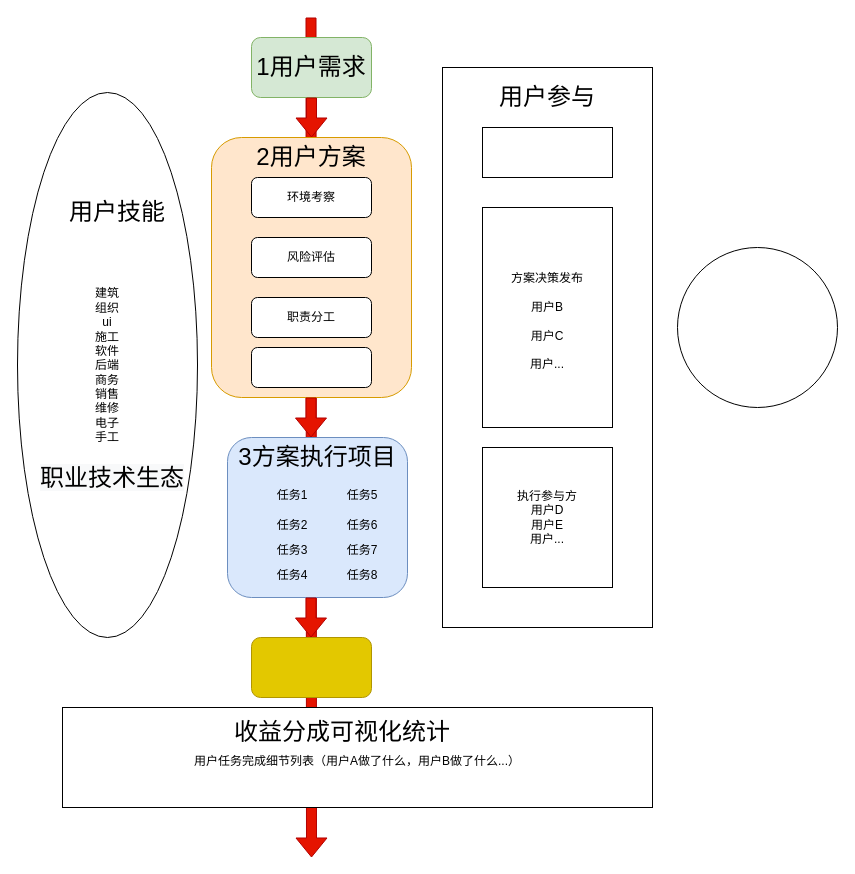
The diagram is 855 pixels wide and 874 high, and some of its shapes have lost their labels. The shapes that lost their labels are listed below. From the top down, each one's centre as x and y in pixels, then its label:
At (x=547, y=152): "用户A".
At (x=757, y=327): "用户资源".
At (x=311, y=367): "其他方案明细...".
At (x=311, y=667): "结尾收益".
